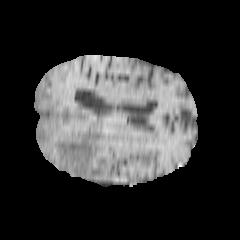glioma: (54, 117, 117, 176)
